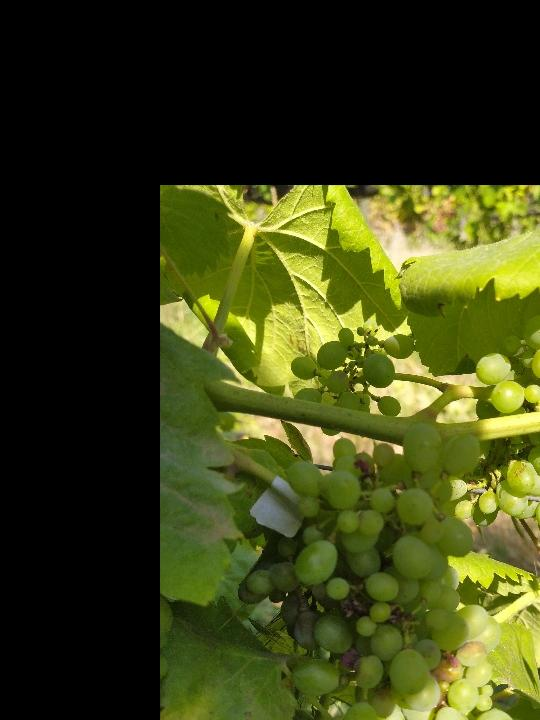grape: (236, 422, 522, 720), (474, 289, 540, 540), (289, 323, 414, 439)
